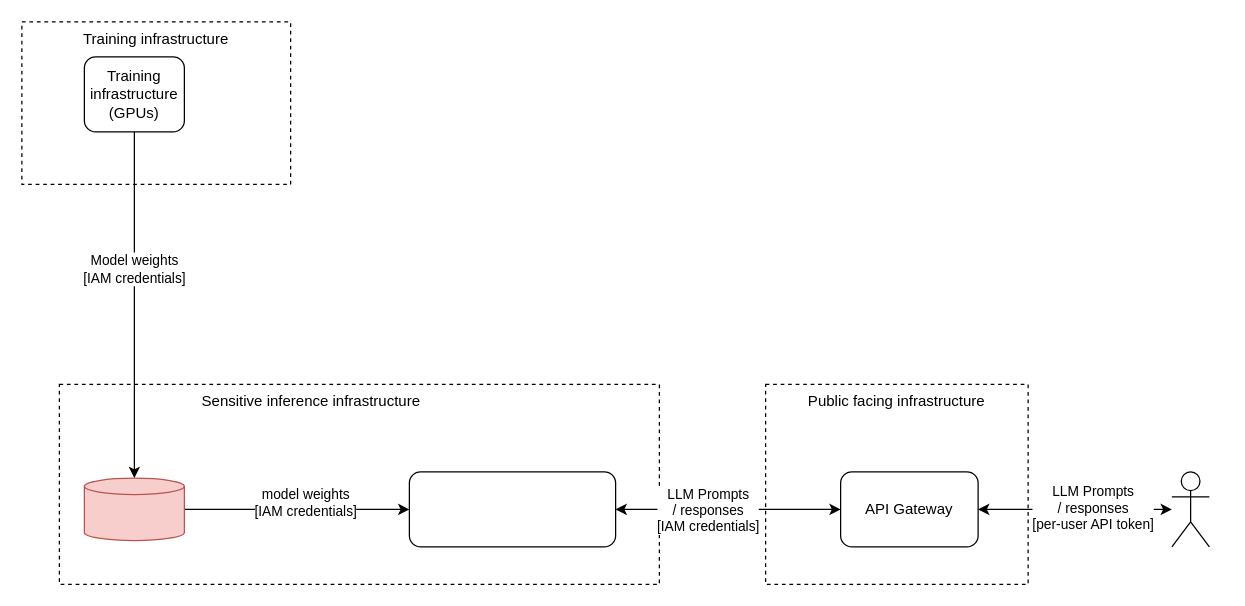
Some shapes in this 1245 by 606 pixel diagram are drawn without their labels. Here are the shapes that lost their labels. From the top down, the centre of each, then its label:
At point 133,509: "Sensitive model weights".
At point 512,509: "Inference services".
At point 1190,509: "Customers".
